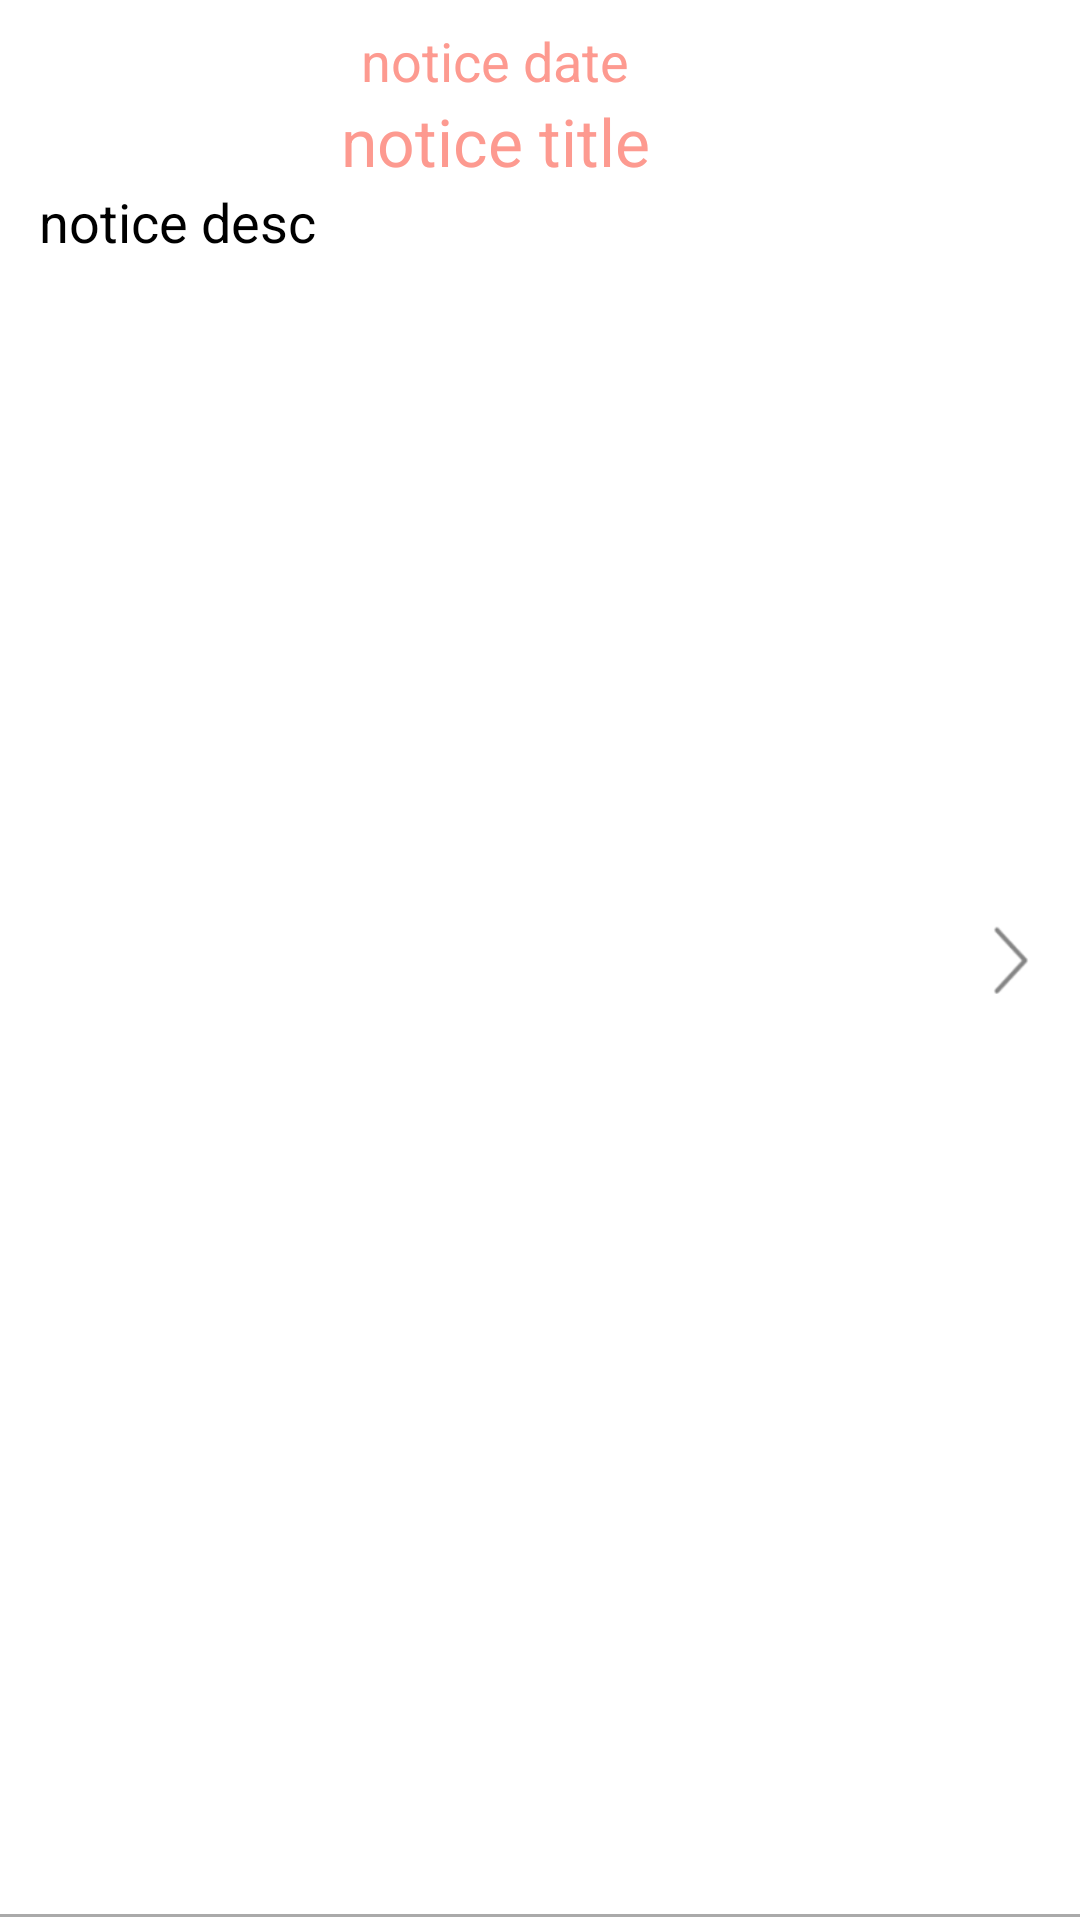

Screen size 1080 × 1920. Icon name, then its center in pixels as (x=x, y=y):
arrow right: (x=1011, y=960)
